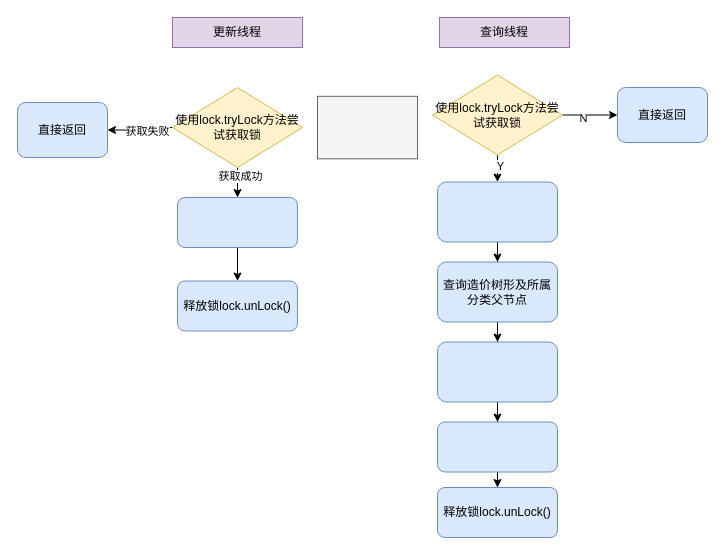
This 725x555 diagram has some shape labels left out. Each missing label, with the box of its shape:
dto转换、排序关联项目组成: (436, 341, 558, 402)
利用业务前缀+指标任务id当做key: (316, 95, 418, 159)
查询历史数据: (436, 421, 558, 472)
查询项目组成设置所属类别: (436, 181, 558, 242)
进行批量插入更新: (176, 196, 298, 248)
